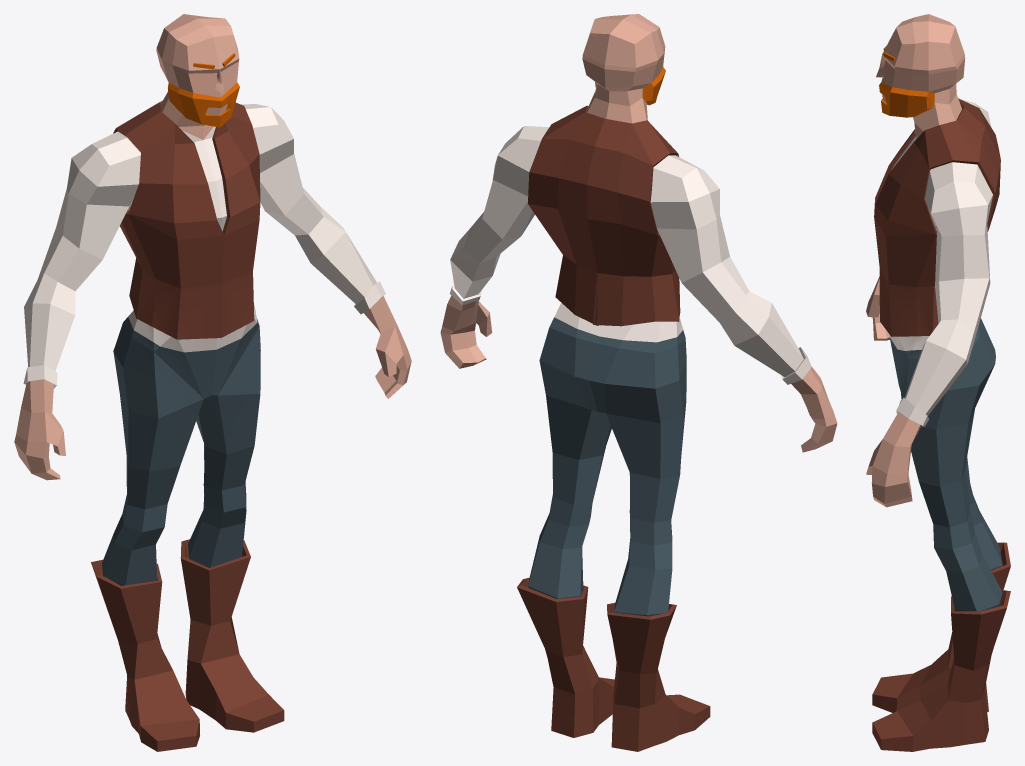
Rendered from homen_-_.fbx.
The picture shows the model from 3 angles, left to right: view 1: azimuth 30°, elevation 25°; view 2: azimuth 150°, elevation 25°; view 3: azimuth 270°, elevation 25°; orthographic projection.
Visible parts, largest first — view 1: man; view 2: man; view 3: man.
Boxes of the visible parts, x1,y1,x2,y2 form: man: [14, 14, 411, 751]; man: [440, 14, 837, 751]; man: [866, 14, 1010, 751].
Size of the model in its own units: 96.35 by 167 by 31.42.
